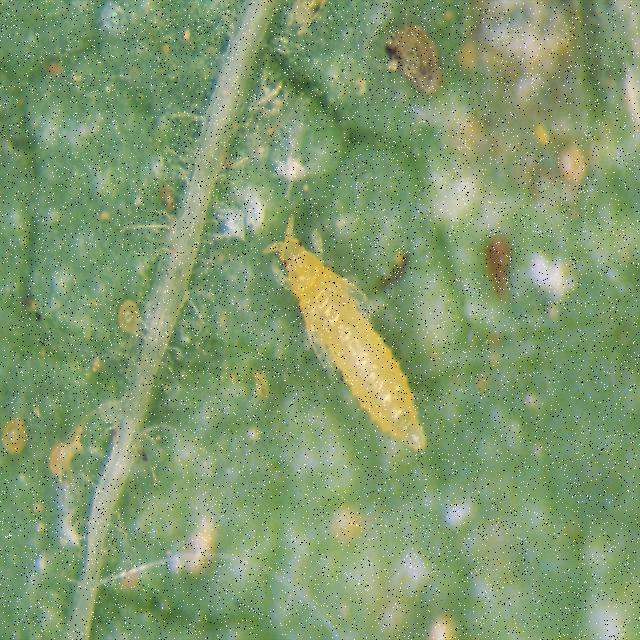Thrips: (229, 185, 469, 537)
